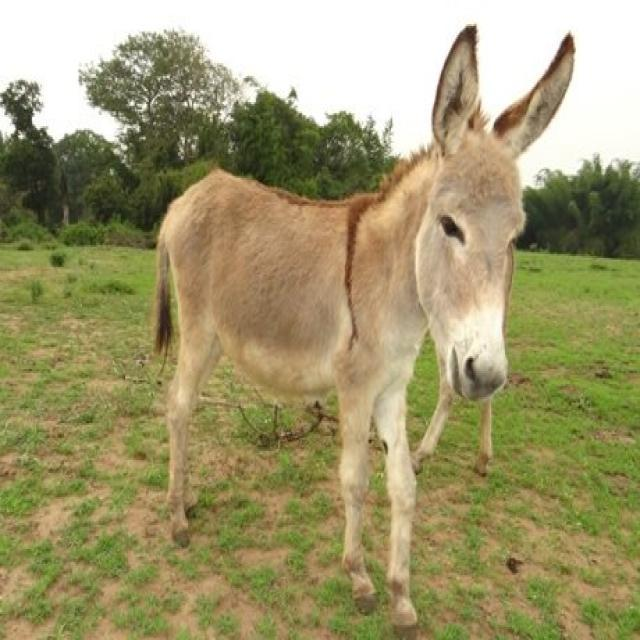Donkey: (150, 24, 576, 640), (412, 230, 518, 474)
